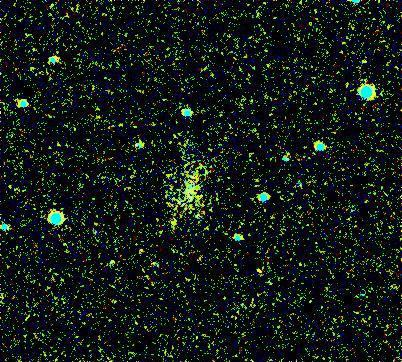star: (159, 207, 189, 237)
